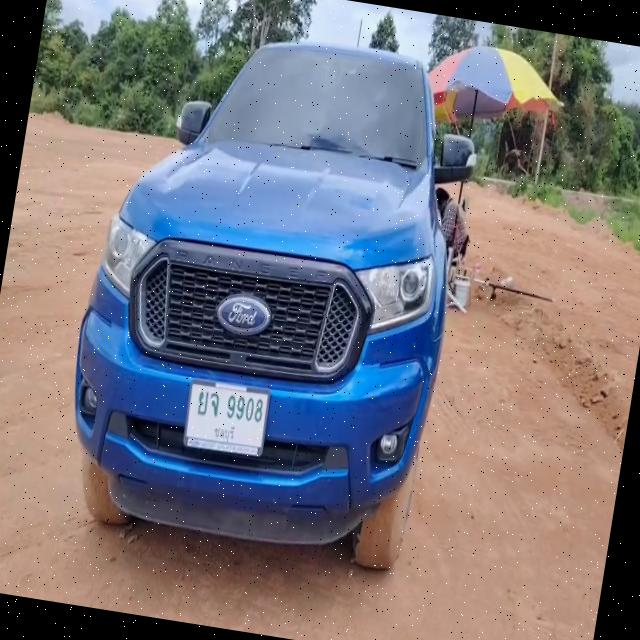Digit: (224, 392, 264, 425)
Licenseplate: (178, 375, 274, 460)
Provincename: (212, 422, 236, 444)
Thaichar: (195, 385, 222, 419)
